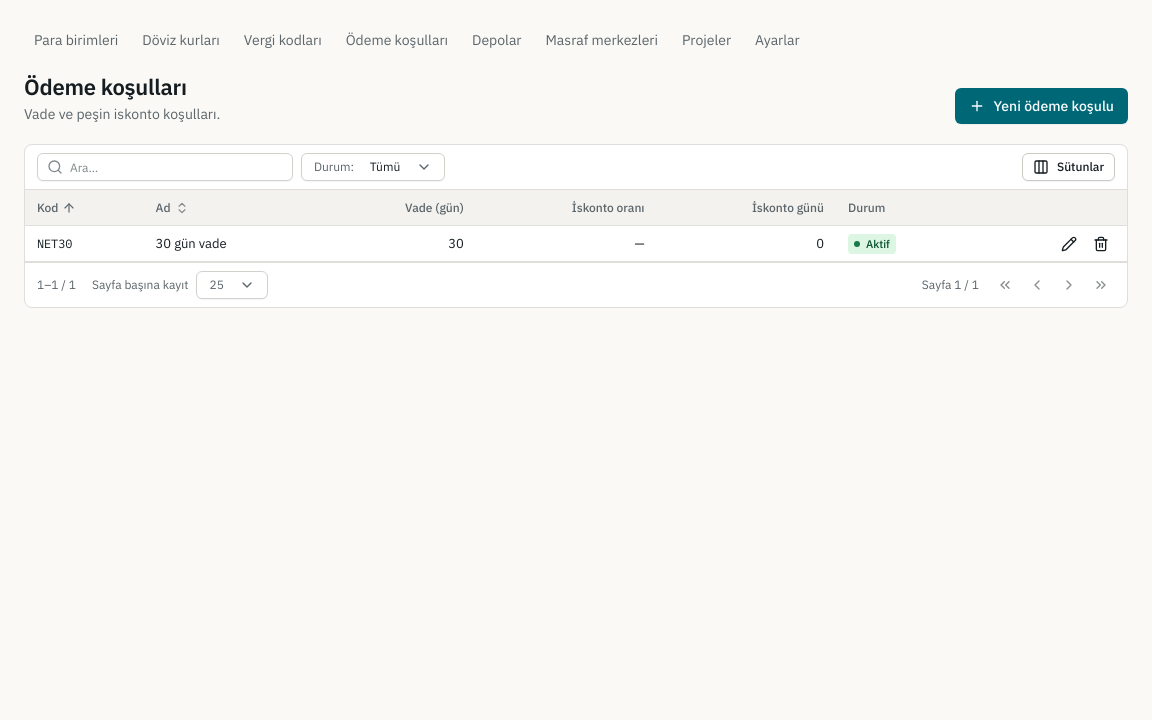
Scenario: PaymentTermsPage › offers a reload on VERSION_CONFLICT and saves on top of the fresh version
This screenshot has width=1152, height=720.
Click the button named "NET30 kaydını düzenle". click: (1069, 244)
box: left=1055, top=230, right=1083, bottom=258
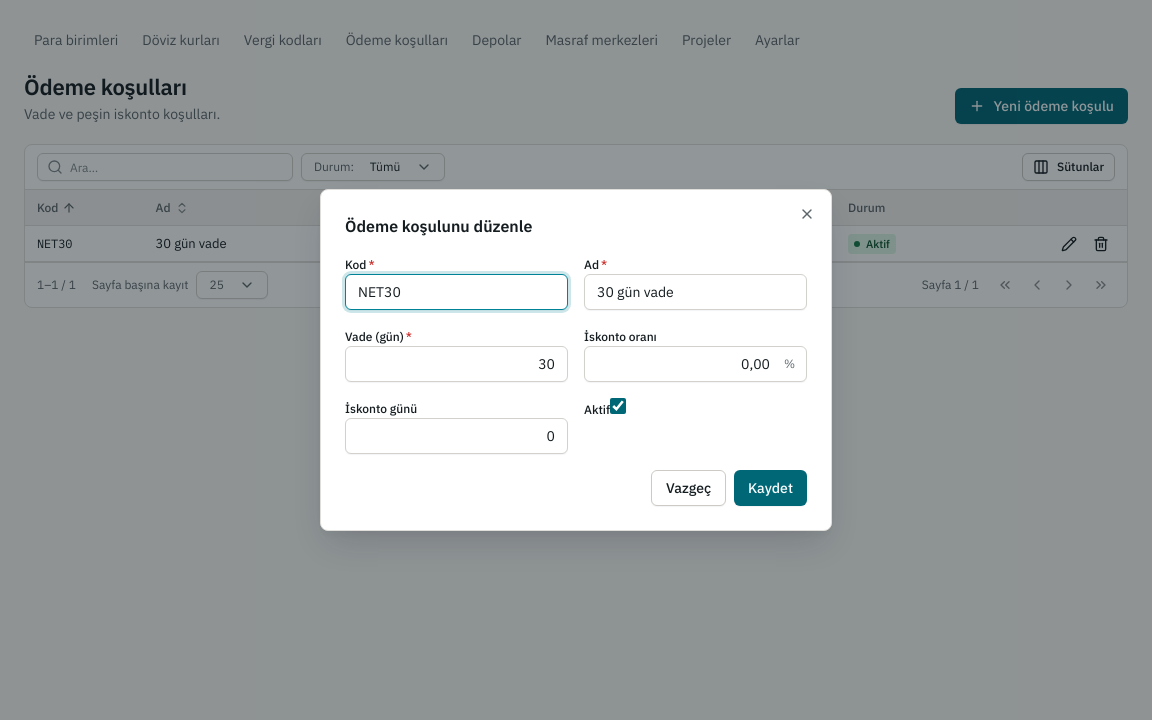
Replace the text in the field labelled "Ad*" with "Yeni ad". click: (696, 292)
box: left=584, top=274, right=807, bottom=310
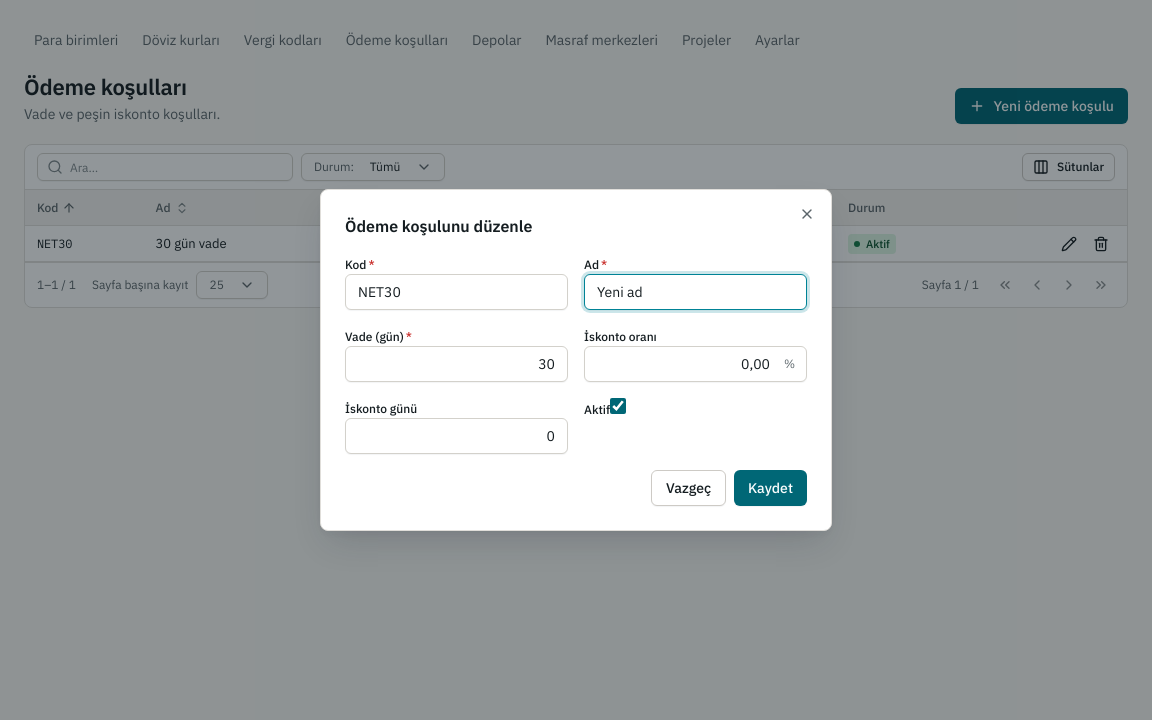
Click the button "Kaydet". click: (771, 488)
box: left=734, top=470, right=807, bottom=506
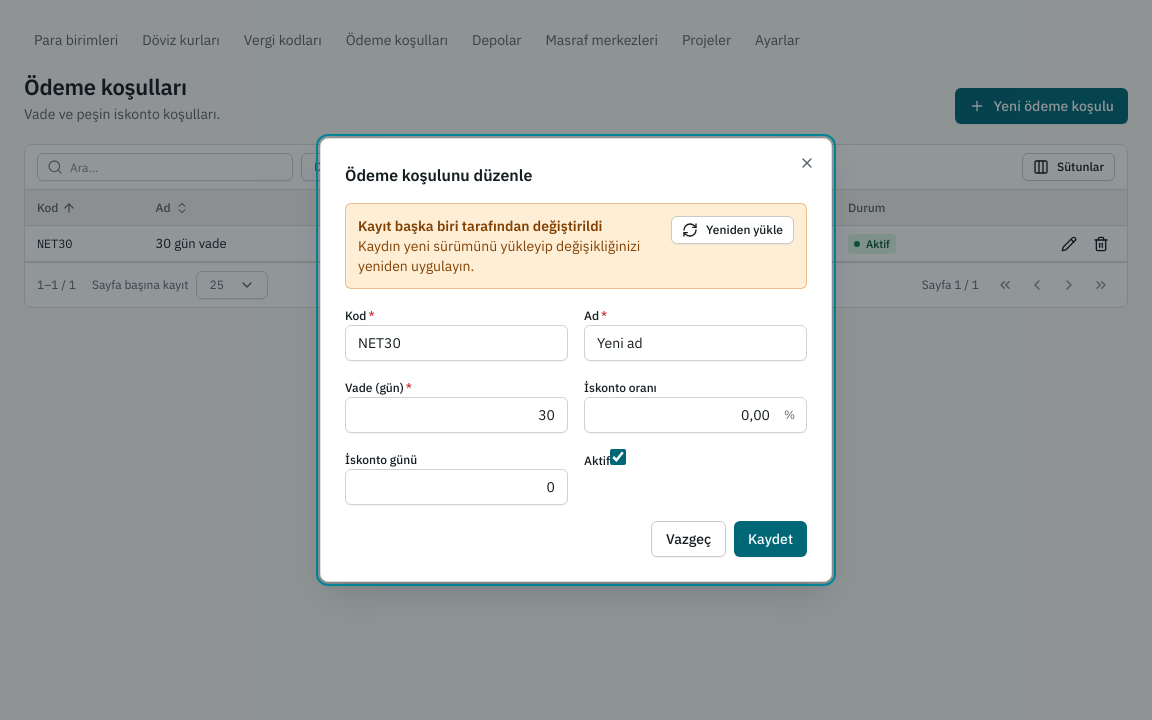
Result: the text "Kayıt başka biri tarafından değiştirildi" is shown at left=358, top=217, right=602, bottom=235
Click the button "Yeniden yükle". click: (733, 230)
box: left=671, top=216, right=794, bottom=244
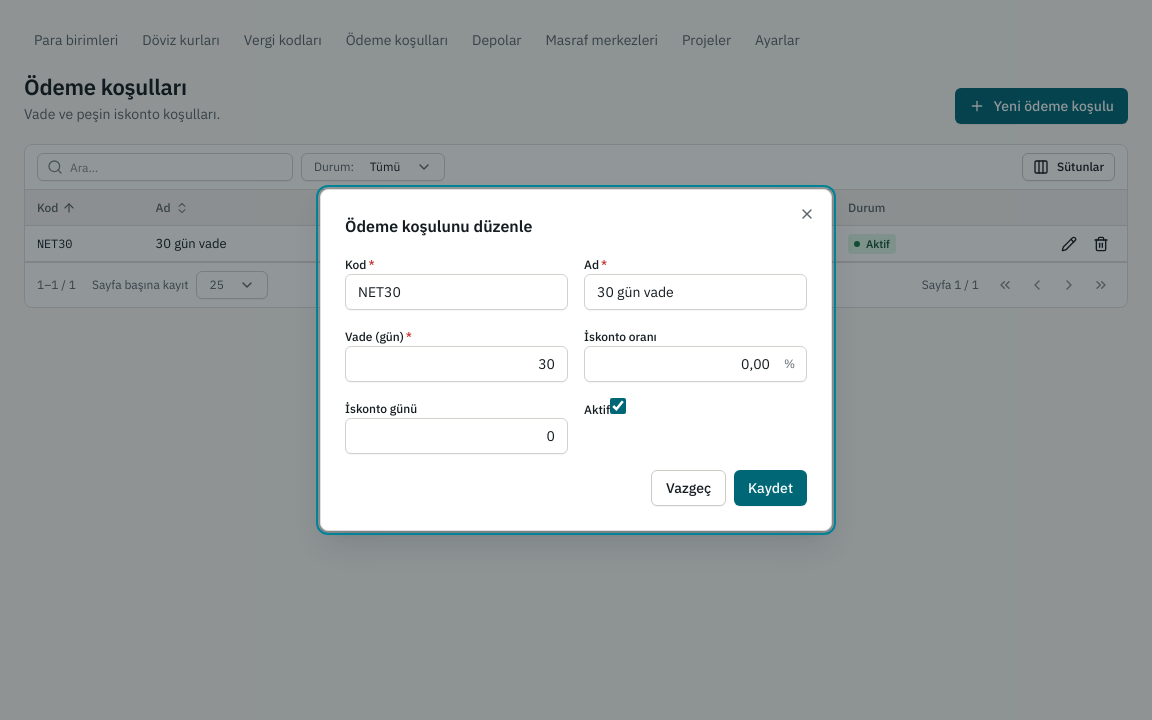
Result: the field labelled "Ad*" holds "30 gün vade"
Replace the text in the field labelled "Ad*" with "Yeni ad". click: (696, 292)
box: left=584, top=274, right=807, bottom=310
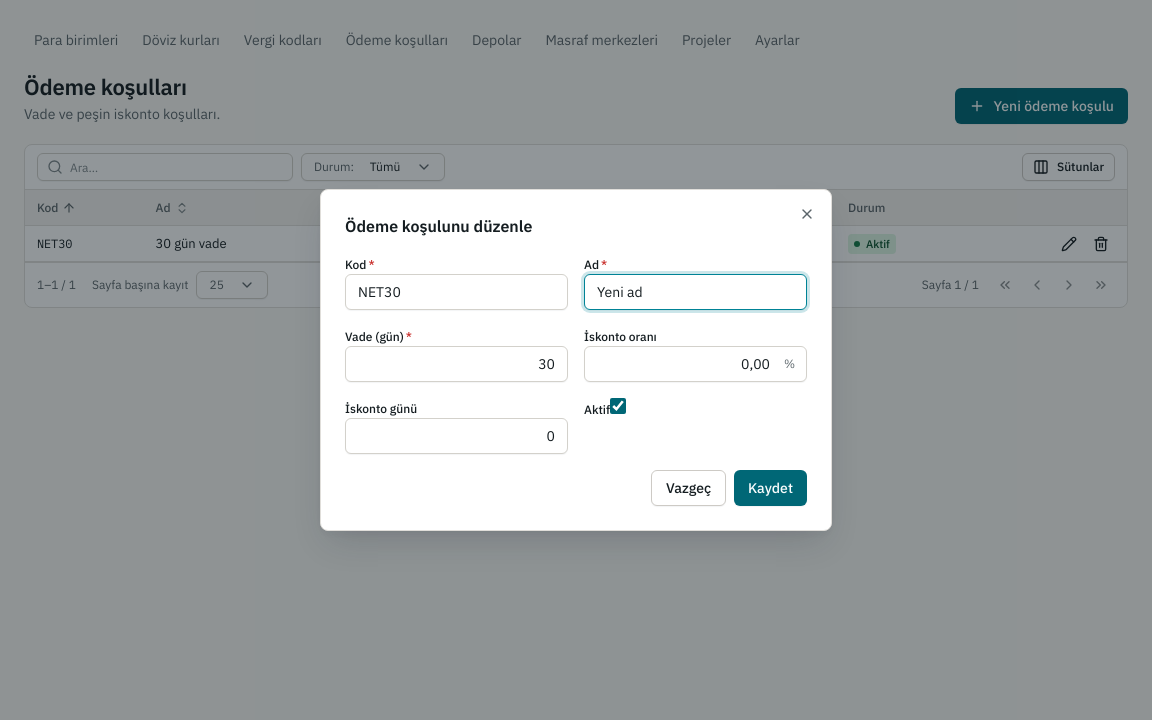
Click the button "Kaydet". click: (771, 488)
box: left=734, top=470, right=807, bottom=506
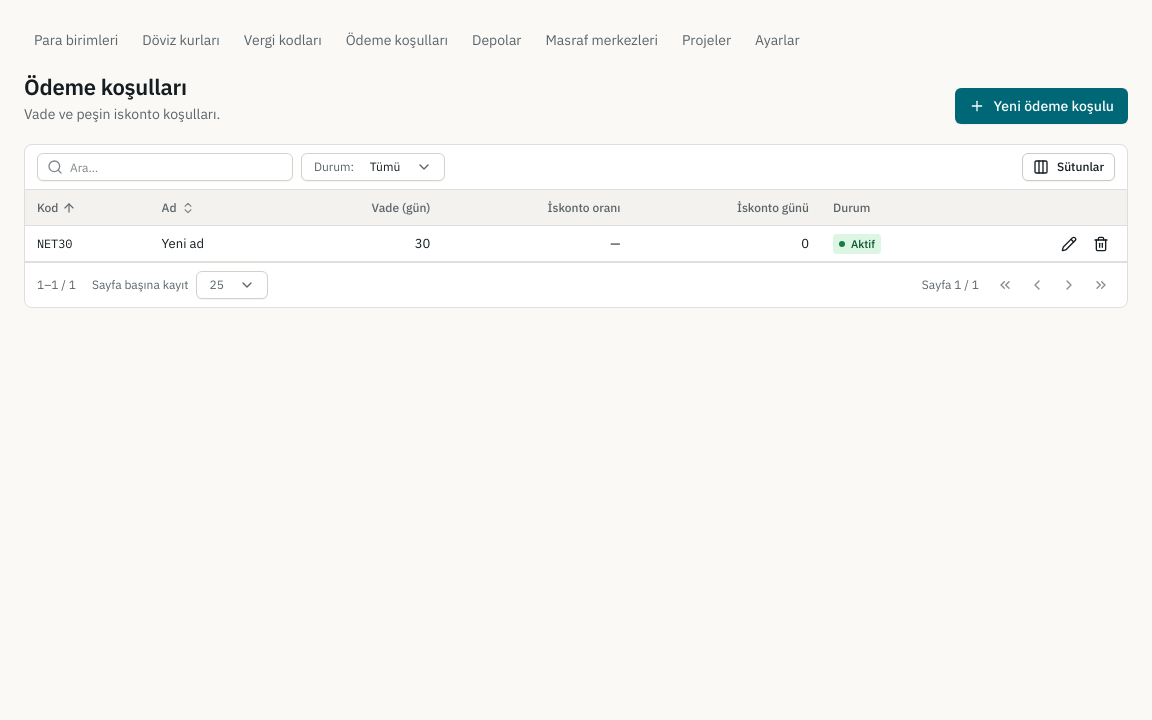
Result: the dialog is gone
